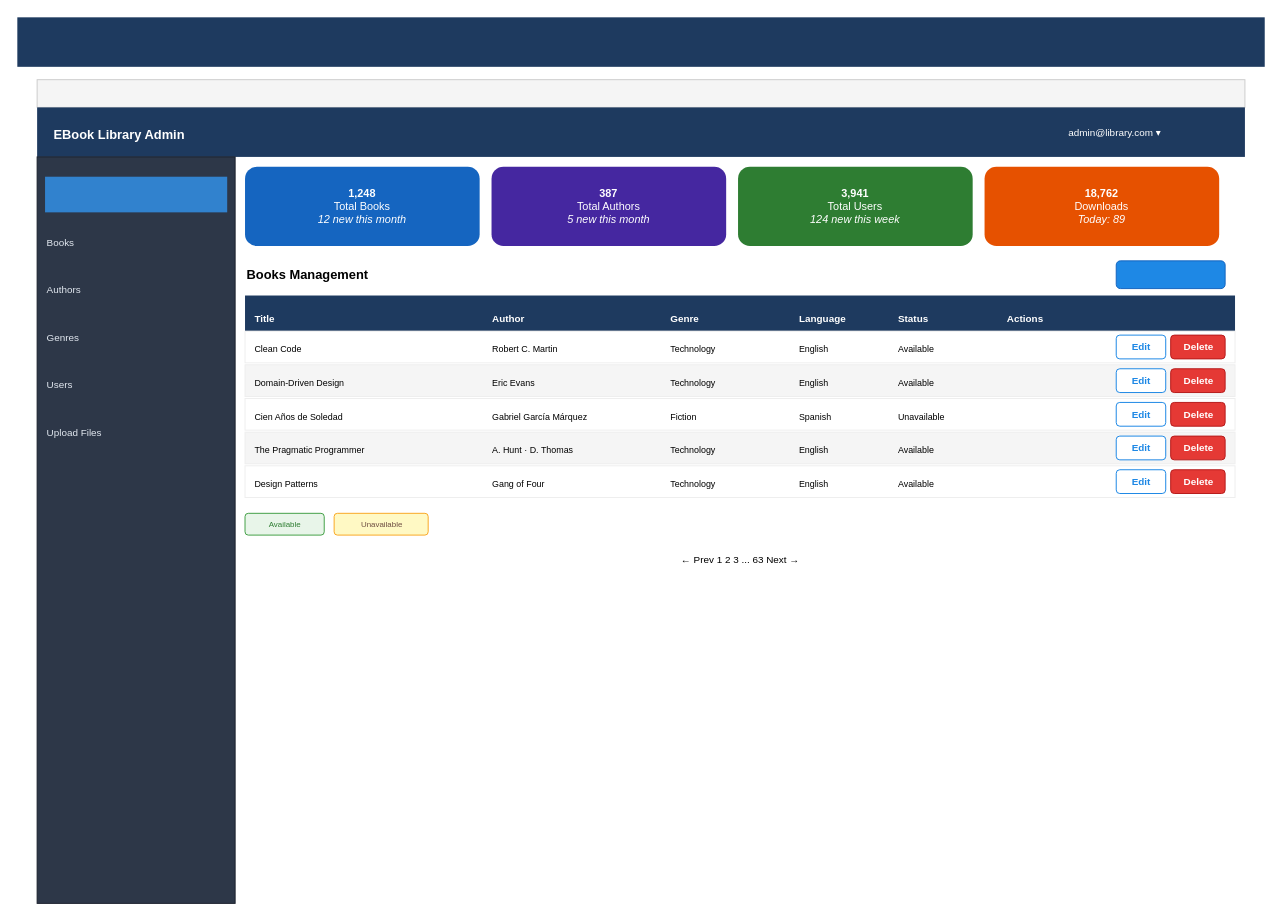
This 1281x921 diagram has some shape labels left out. The box of each missing label's shape, as (x1, y1, x2, y2) in pixels:
+ Add Book: (1115, 260, 1225, 289)
UI Mockup — Admin Dashboard: (17, 17, 1264, 66)
▶ Dashboard: (45, 176, 227, 212)
